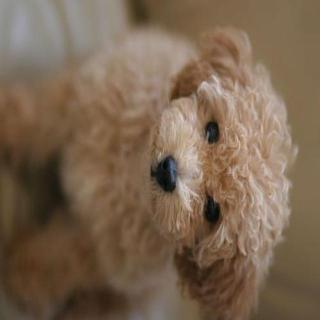dog: (148, 27, 296, 316)
nose: (153, 154, 180, 198)
